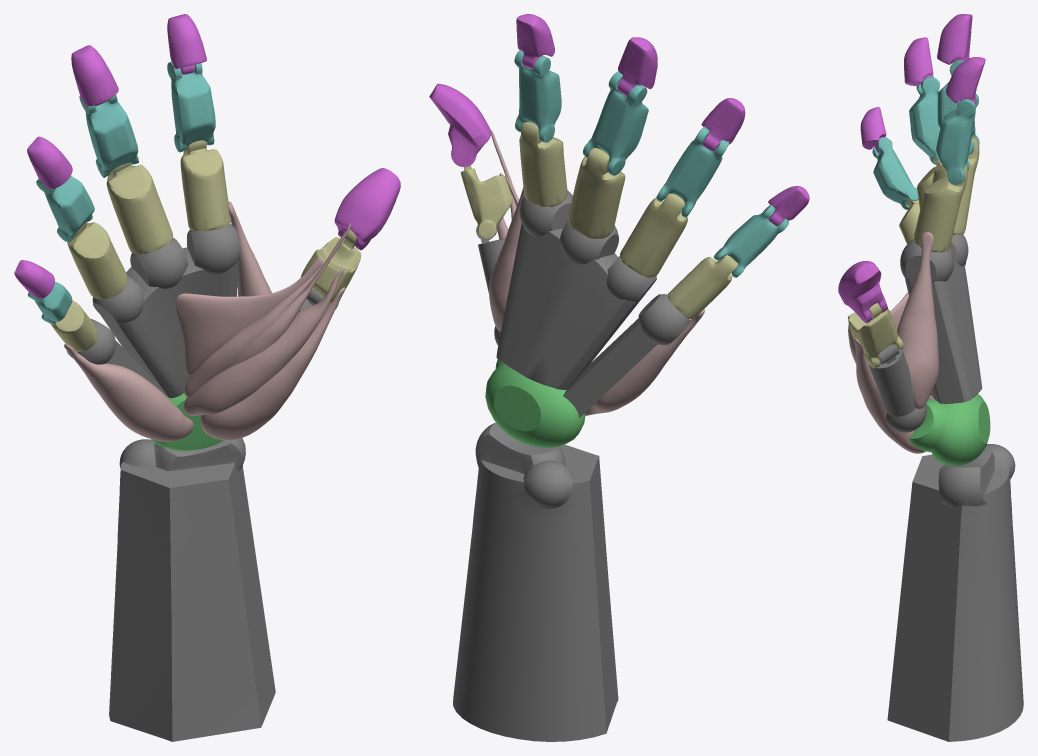
Rendered from 手_20260324191552_opt.glb.
3 renders of one model, left to right at view 1: azimuth 30°, elevation 25°; view 2: azimuth 150°, elevation 25°; view 3: azimuth 270°, elevation 25°, orthographic. The views are drawn at different scales.
Visible parts, largest first — view 1: 1, 4, 2, 3; view 2: 1, 4, 3, 2; view 3: 1, 4, 2, 3.
Boxes of the visible parts, bbox=[...] form: 1: bbox=[101, 247, 275, 741]; 4: bbox=[14, 14, 400, 351]; 2: bbox=[64, 201, 350, 441]; 3: bbox=[67, 223, 322, 396]; 1: bbox=[453, 223, 645, 741]; 4: bbox=[429, 14, 809, 318]; 3: bbox=[476, 190, 689, 417]; 2: bbox=[489, 129, 704, 415]; 1: bbox=[887, 258, 1023, 741]; 4: bbox=[838, 14, 985, 368]; 2: bbox=[848, 232, 938, 453]; 3: bbox=[868, 234, 968, 432].
Size of the model in its own units: 0.2303 by 0.4 by 0.104.
4 materials, 3 textured.
